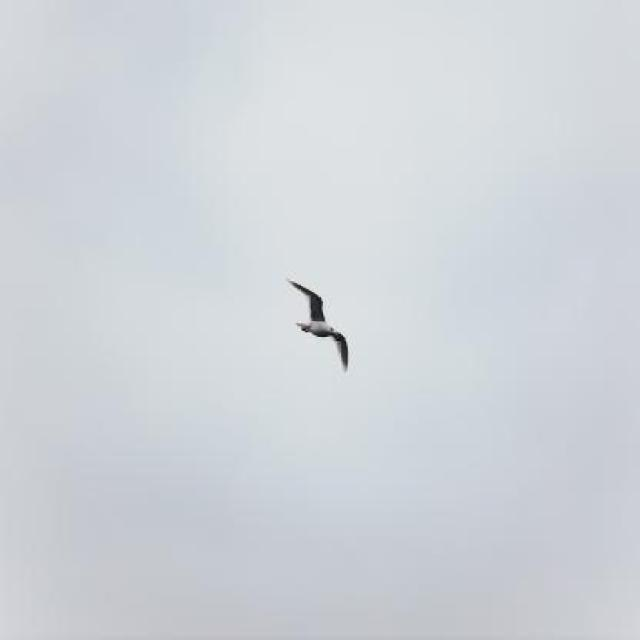bird: (285, 278, 350, 373)
